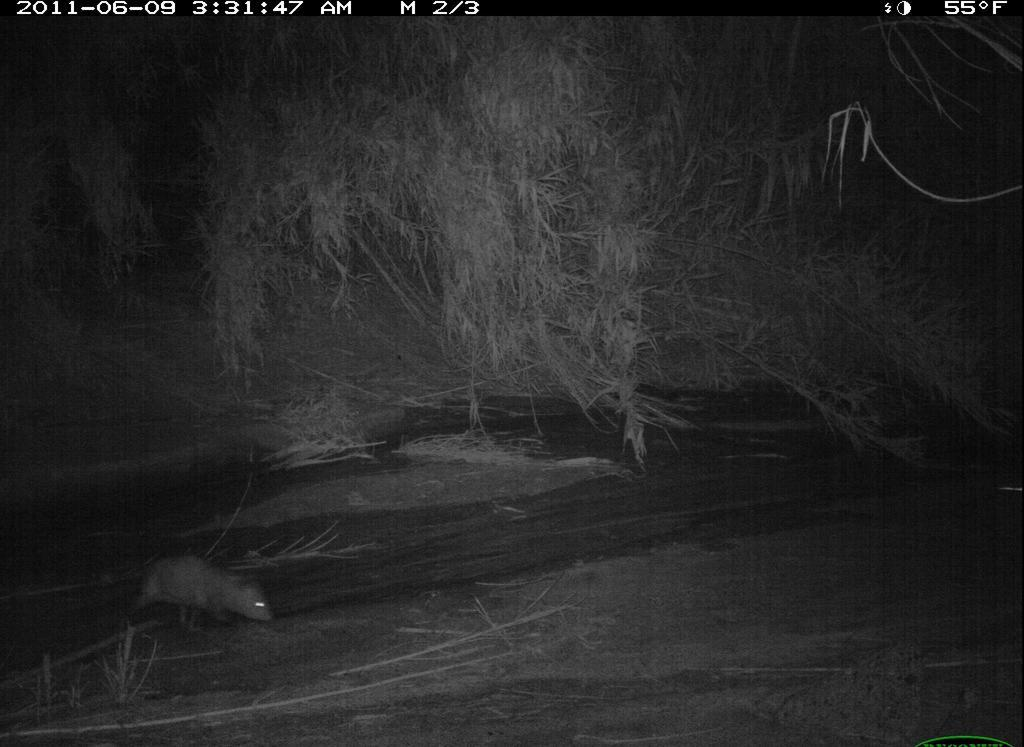opossum: (50, 541, 286, 628)
